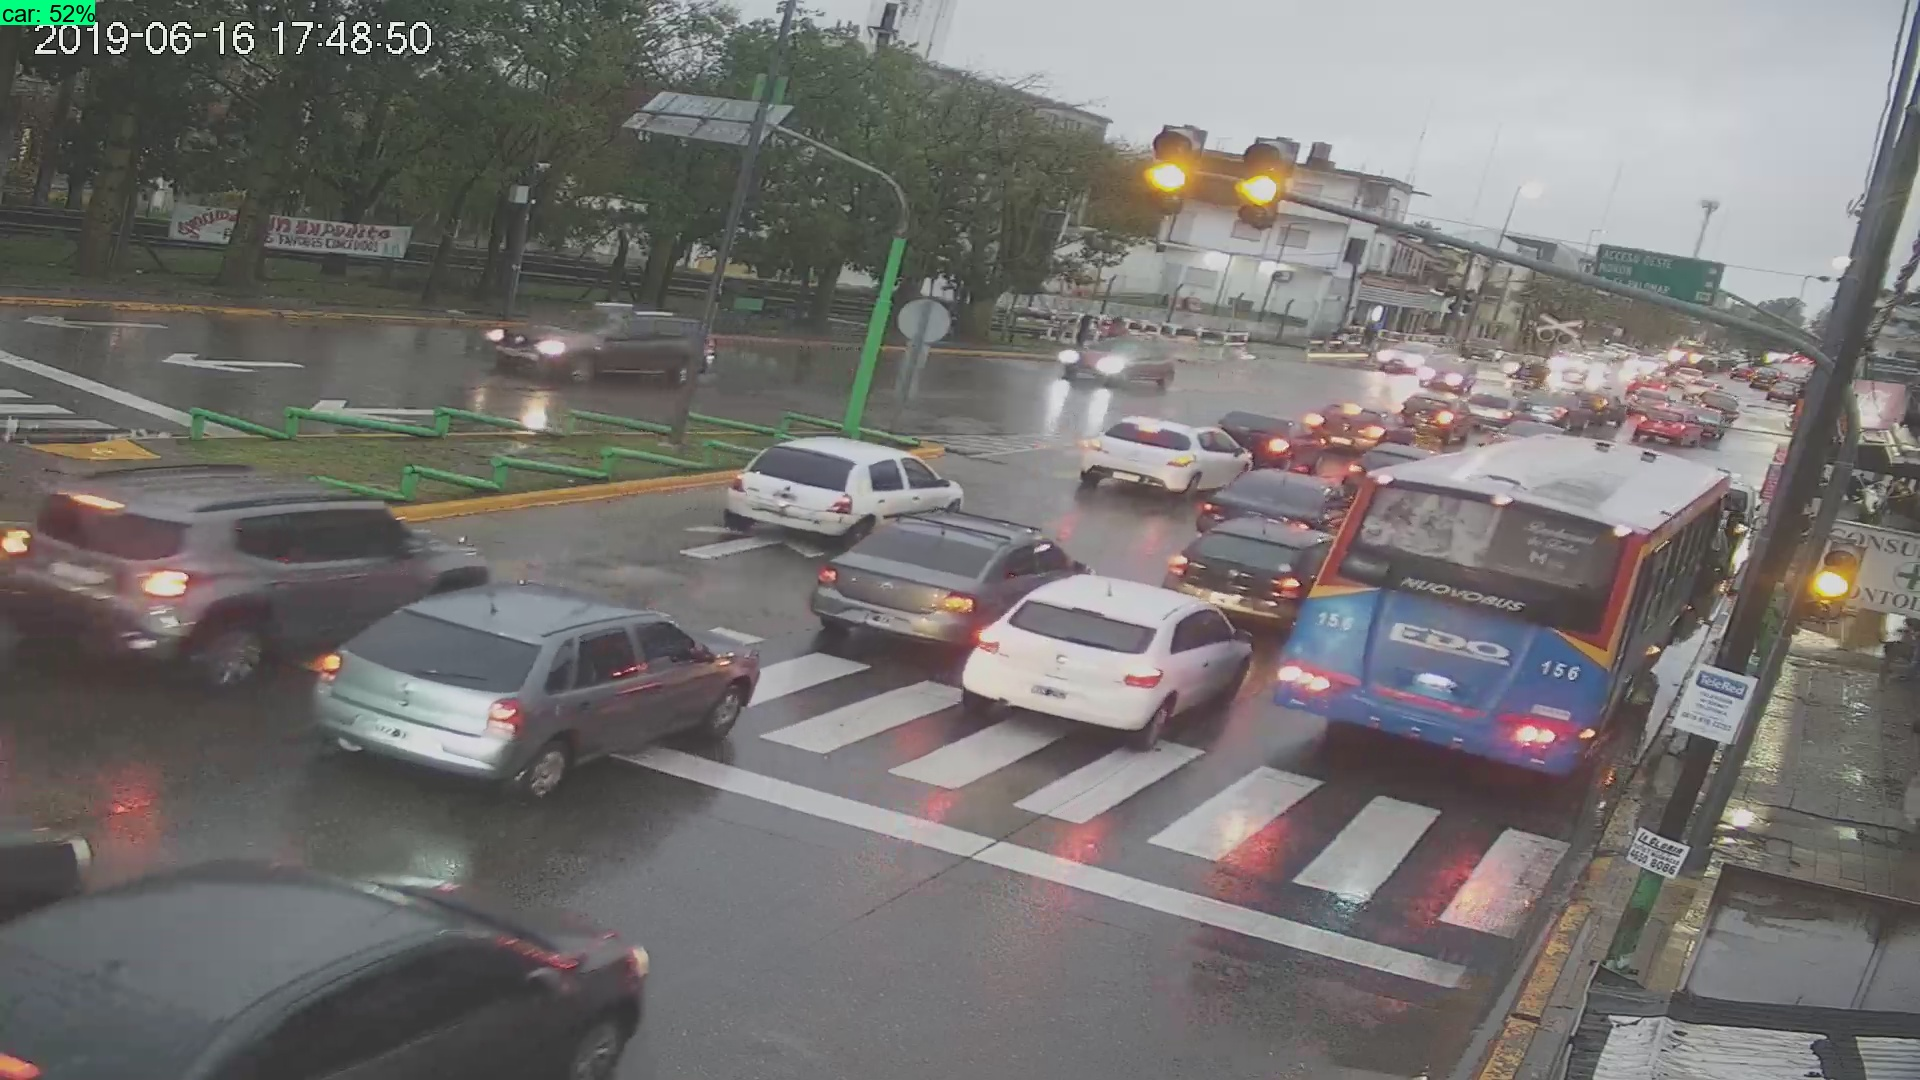bus: (1270, 429, 1735, 785)
car: (7, 873, 682, 1080), (1, 444, 493, 676), (305, 563, 770, 795), (968, 574, 1261, 756), (800, 513, 1091, 650), (702, 425, 971, 545), (472, 295, 723, 400), (1077, 413, 1257, 514), (1050, 316, 1184, 396)
